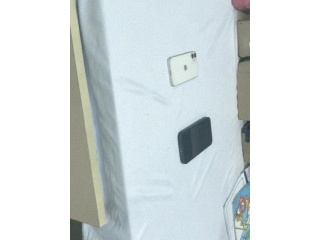mouse: (168, 51, 199, 87)
phone: (177, 116, 213, 164)
